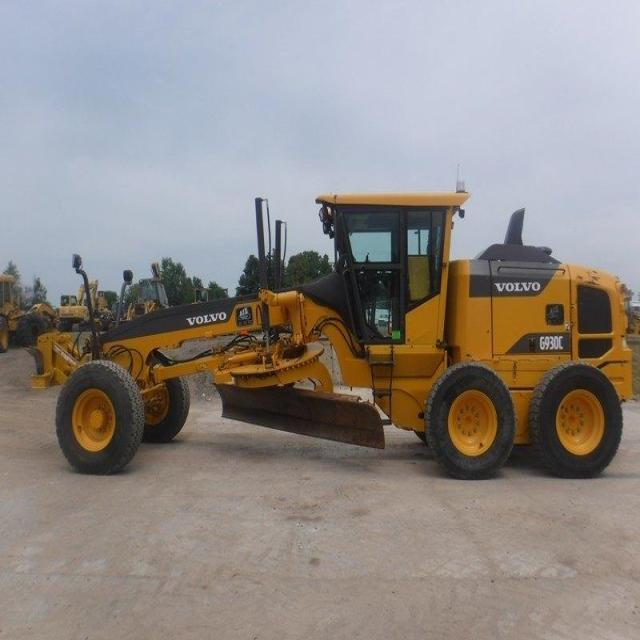buldozerpayloadergrader: (29, 171, 630, 500)
